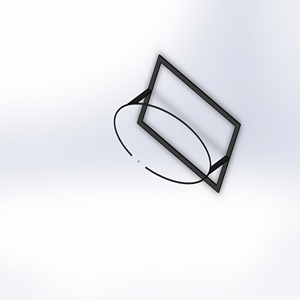circle: (112, 52, 241, 194)
